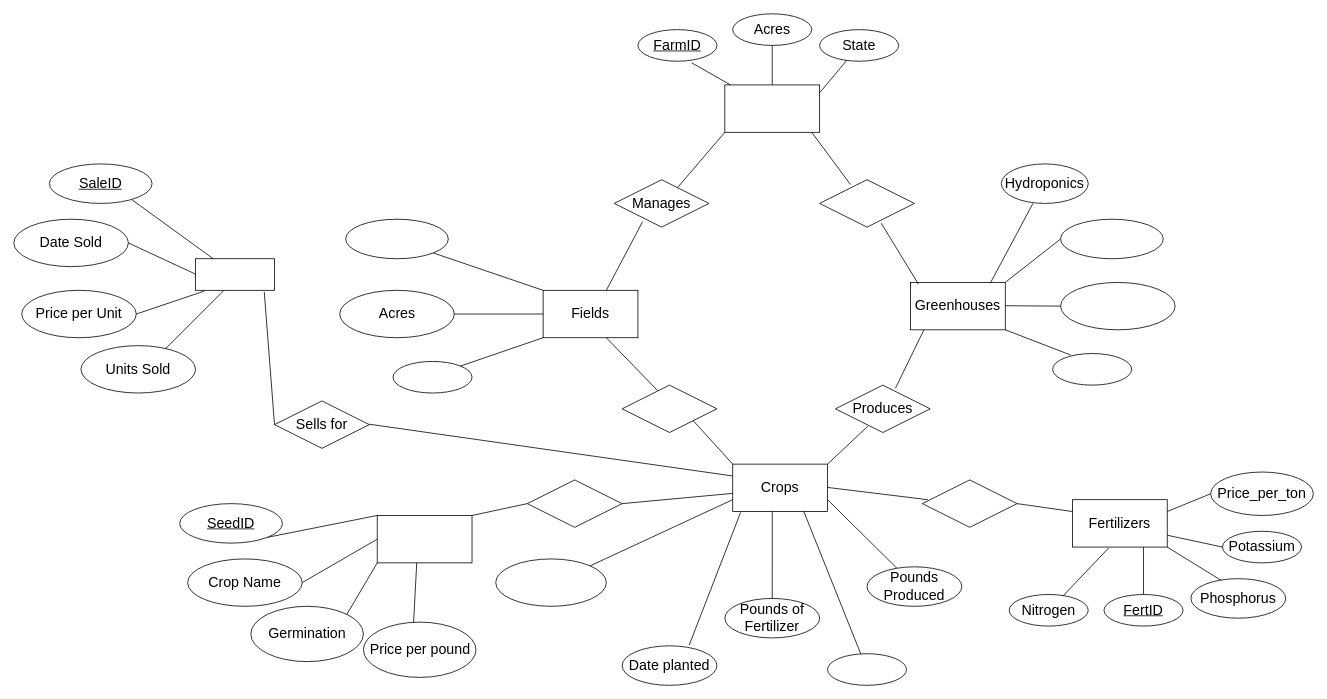
This 1327x699 diagram has some shape labels left out. Each missing label, with the centre of its shape:
# of Growbeds: (x=1117, y=306)
Becomes: (x=574, y=503)
CropID: (x=867, y=669)
Date Harvested: (x=550, y=582)
Farm: (x=772, y=108)
Fertilizes: (x=969, y=503)
FieldID: (x=396, y=238)
GreenhouseID: (x=1111, y=238)
Grows: (x=669, y=408)
Irrigation: (x=432, y=377)
Maintains: (x=866, y=203)
Sales: (x=235, y=274)
Seeds: (x=424, y=539)
Square feet: (x=1092, y=369)
